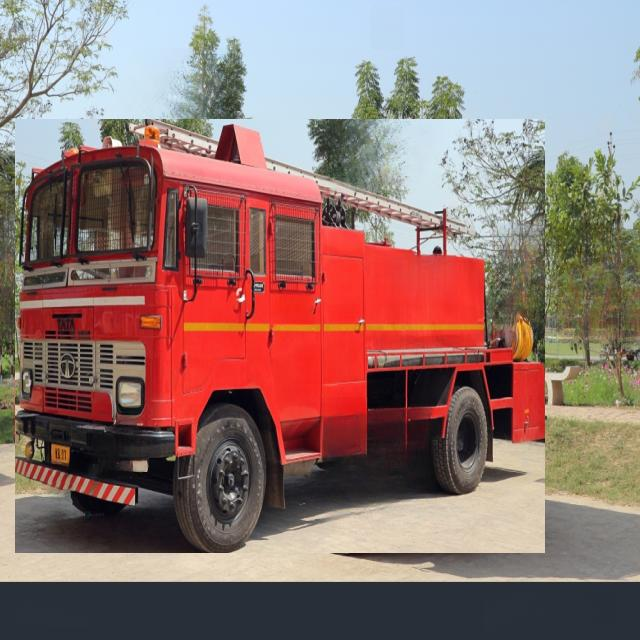emergency: (15, 120, 545, 553)
